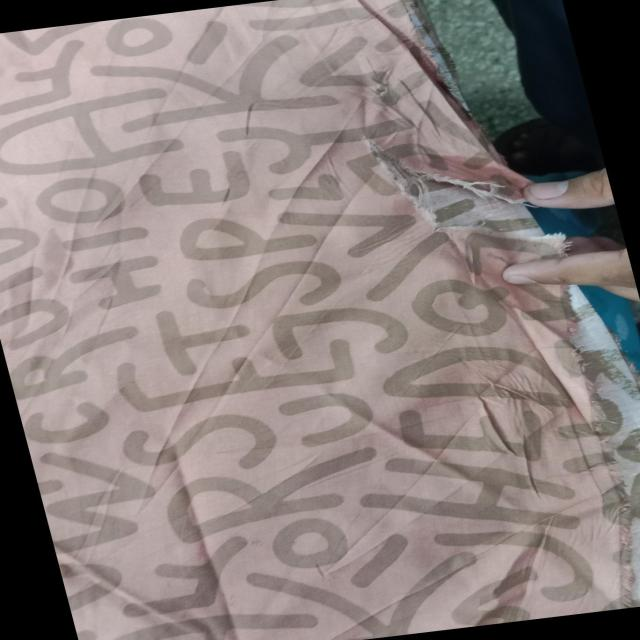cut: (358, 105, 586, 272)
